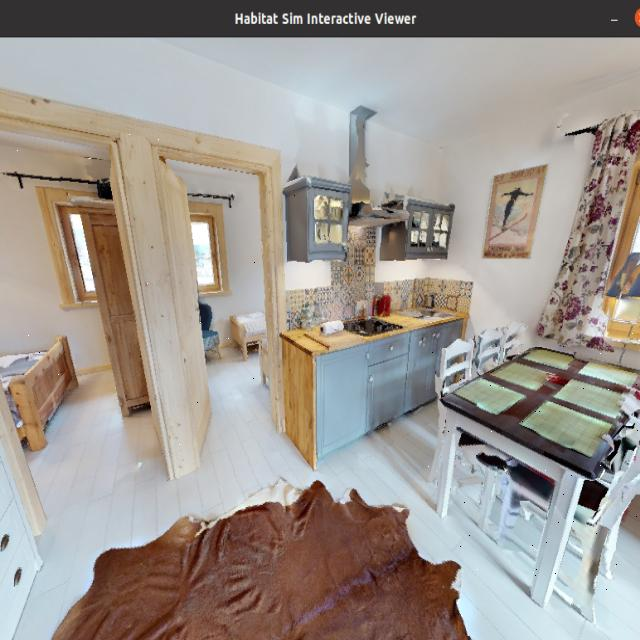door-frame: (0, 131, 181, 547), (155, 144, 297, 464)
table: (423, 318, 640, 597)
